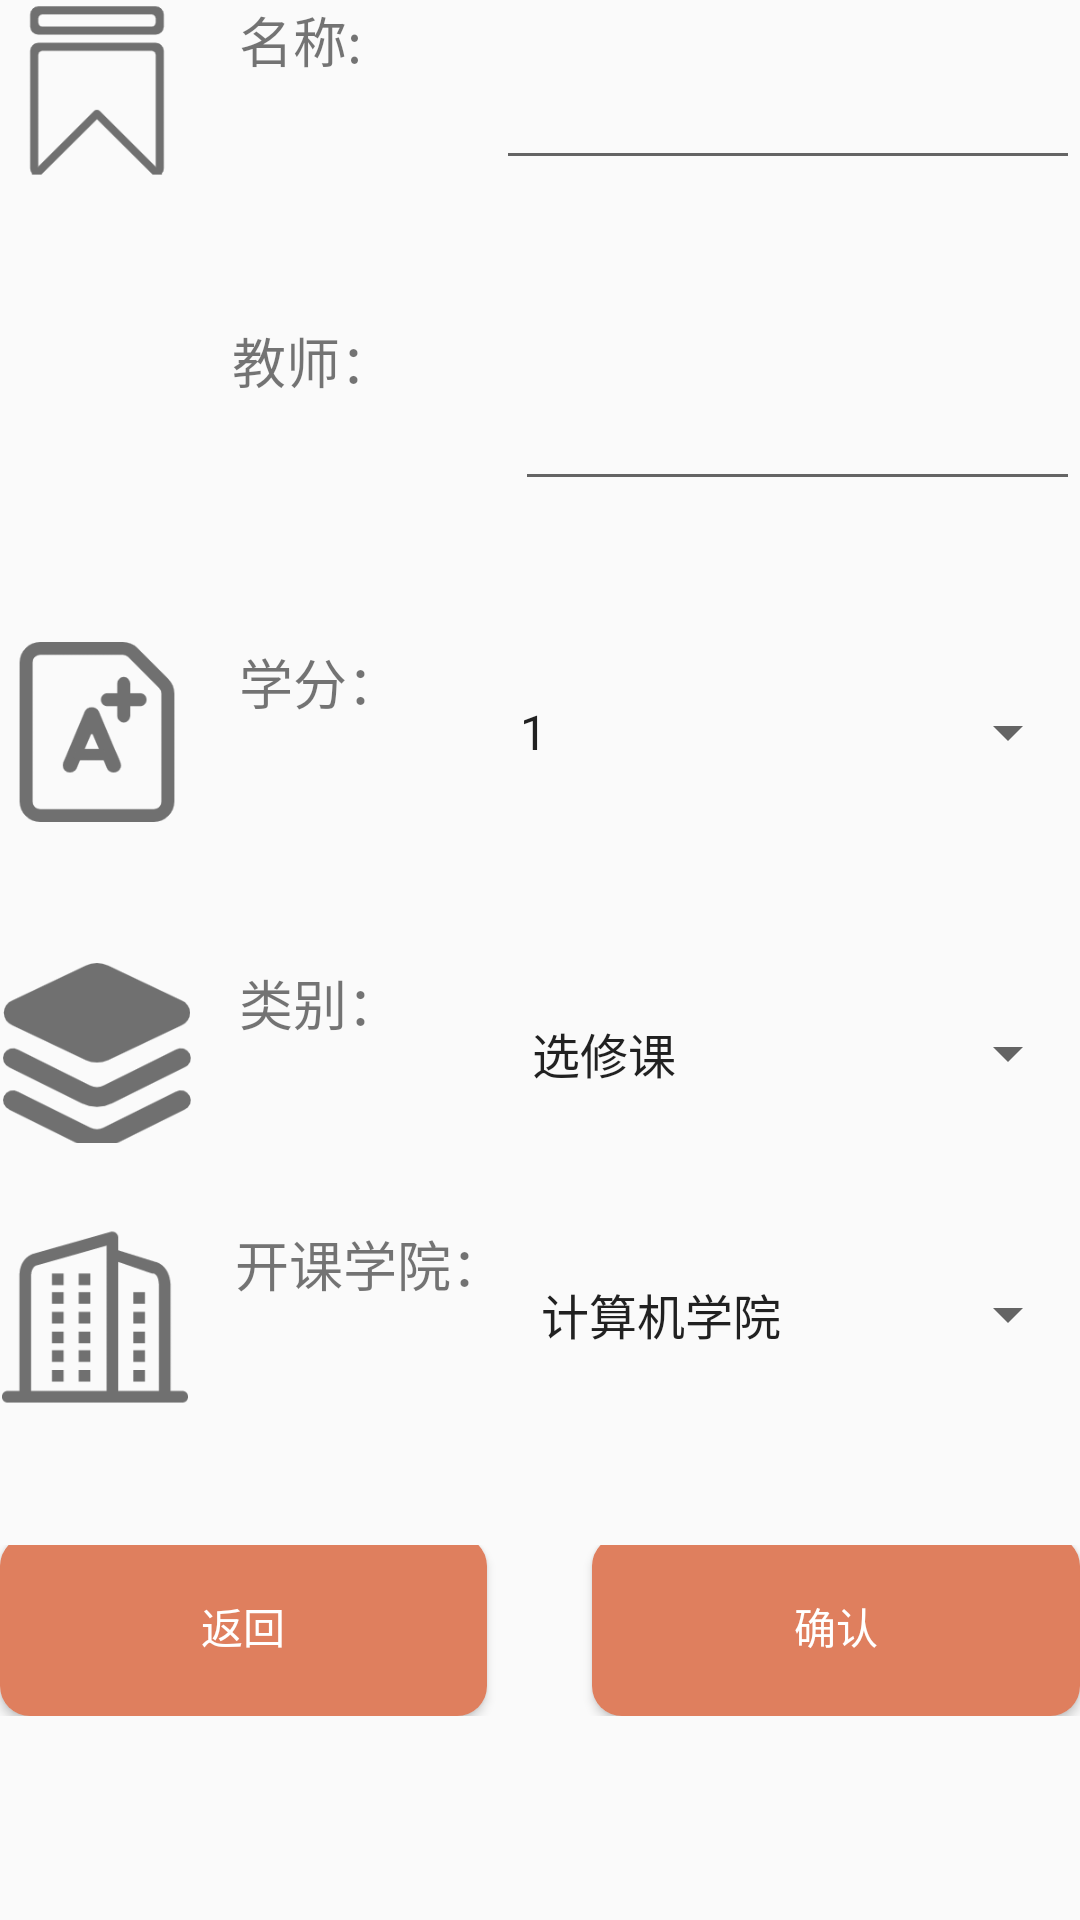

Screen size 1080*1920. Icon name, then its center in pixels as (x=x, y=y):
college: (x=95, y=1317)
credit: (x=97, y=732)
kind: (x=97, y=1053)
